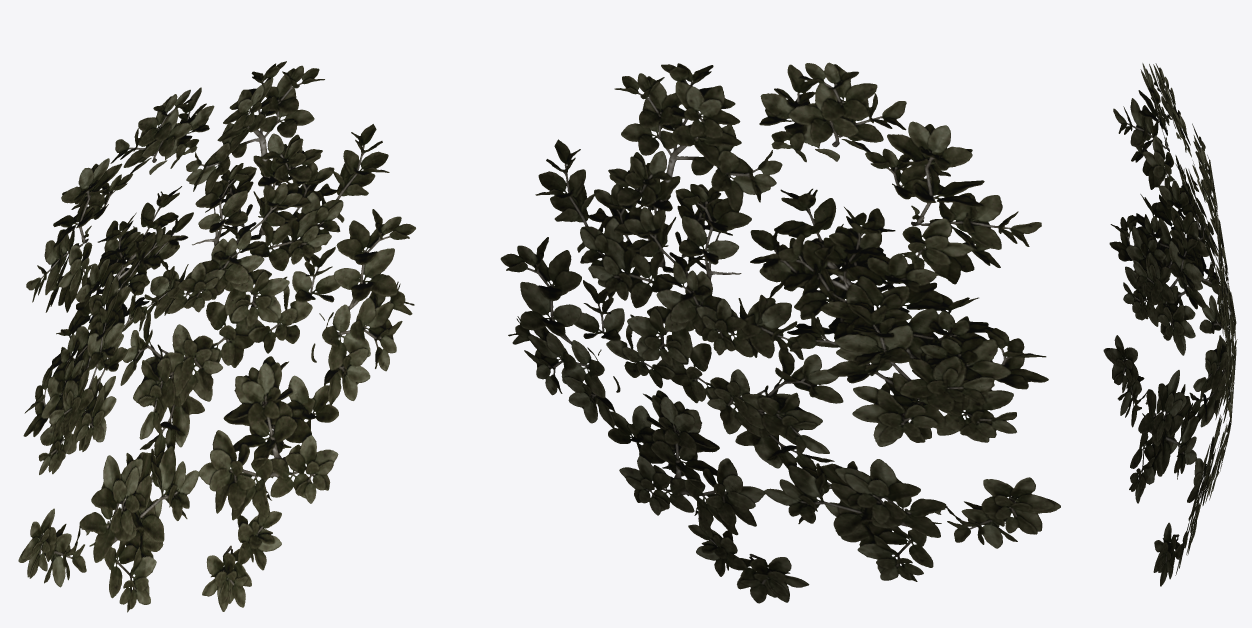
File: TI_Bush_02_Part_02.fbx
3 views of the same model, side by side, from view 1: azimuth 30°, elevation 25°; view 2: azimuth 150°, elevation 25°; view 3: azimuth 270°, elevation 25° (orthographic). The views are drawn at different scales.
Parts seen in each view (by area): view 1: TI_Bush_02_Part_02; view 2: TI_Bush_02_Part_02; view 3: TI_Bush_02_Part_02.
Part boxes in pixels (x1,y1,x2,y2): TI_Bush_02_Part_02: [18, 61, 415, 612]; TI_Bush_02_Part_02: [500, 62, 1060, 603]; TI_Bush_02_Part_02: [1103, 63, 1237, 586].
Bounding box in the file's own units: 1.15 × 1.26 × 0.3022.
